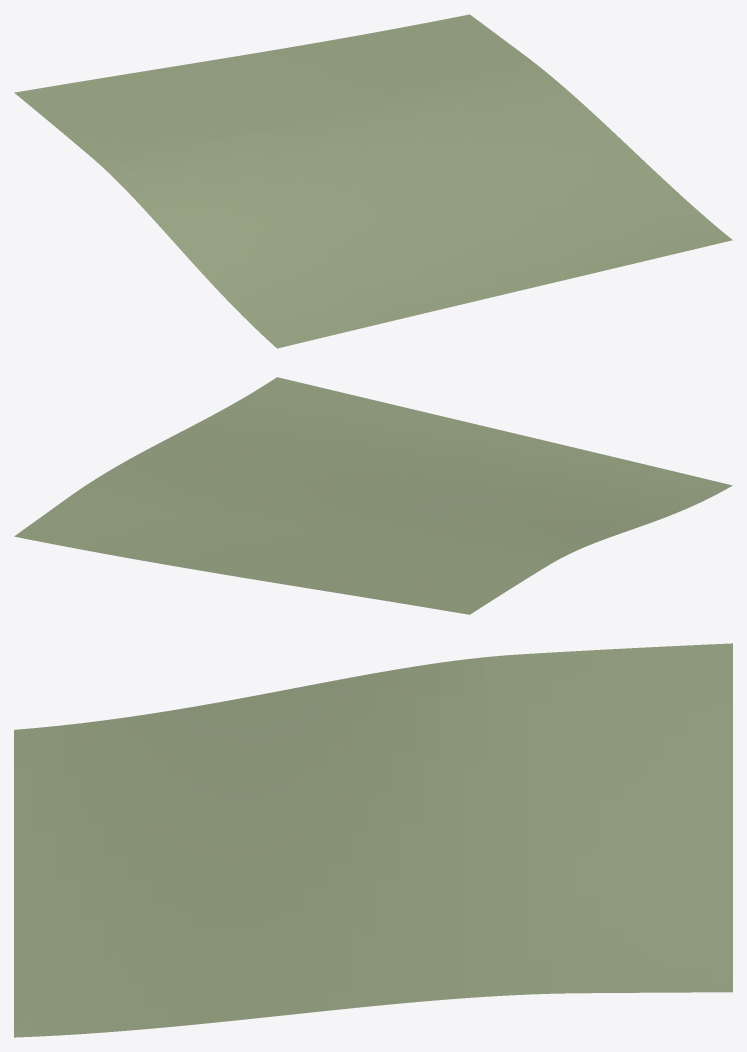
The model's file is valley-3-7.glb.
3 renders of one model, top to bottom at view 1: azimuth 30°, elevation 25°; view 2: azimuth 150°, elevation 25°; view 3: azimuth 270°, elevation 25°, orthographic. The views are drawn at different scales.
Visible parts, largest first — view 1: valley-3-7; view 2: valley-3-7; view 3: valley-3-7.
Part boxes in pixels (<box>): valley-3-7: <box>14,14,732,348</box>; valley-3-7: <box>14,377,732,614</box>; valley-3-7: <box>14,643,732,1037</box>.
Size of the model in its own units: 256 by 35.48 by 256.
